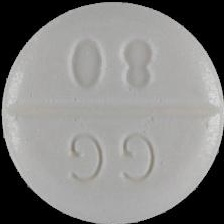50090-0150: (0, 0, 224, 224)
